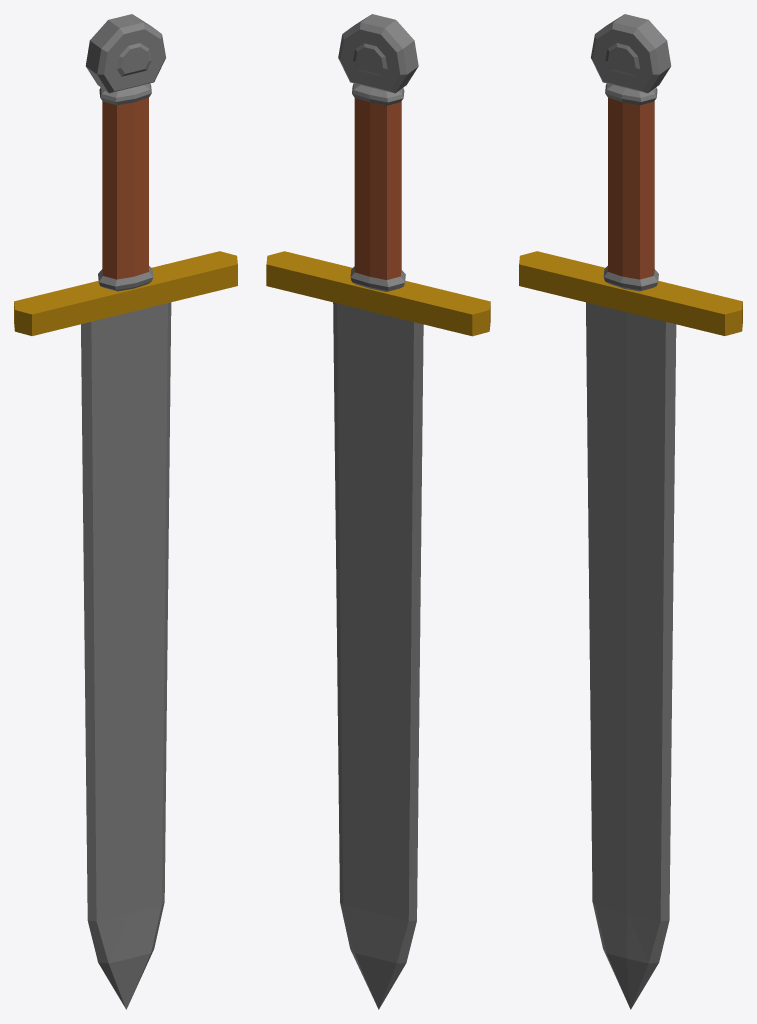
File: Prop_Fantasy_Weapon_Short_Sword_01.FBX
The picture shows the model from 3 angles, left to right: view 1: azimuth 30°, elevation 25°; view 2: azimuth 150°, elevation 25°; view 3: azimuth 330°, elevation 25°; orthographic projection.
Parts seen in each view (by area): view 1: Prop_Fantasy_Weapon_Short_Sword_01; view 2: Prop_Fantasy_Weapon_Short_Sword_01; view 3: Prop_Fantasy_Weapon_Short_Sword_01.
Boxes of the visible parts, x1=… form: Prop_Fantasy_Weapon_Short_Sword_01: x1=14, y1=14, x2=237, y2=1009; Prop_Fantasy_Weapon_Short_Sword_01: x1=266, y1=14, x2=490, y2=1009; Prop_Fantasy_Weapon_Short_Sword_01: x1=519, y1=14, x2=742, y2=1009.
Size of the model in its own units: 240 by 1018 by 37.13.
